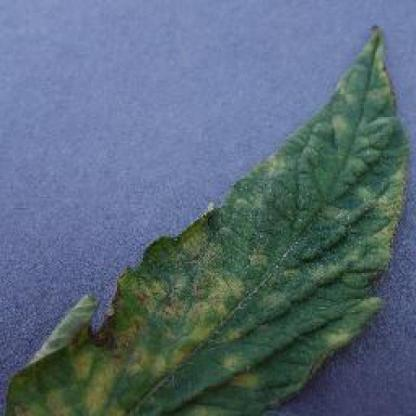Tomato_Leaf_Mold: (10, 25, 410, 416)
